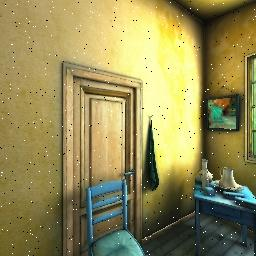chair: (74, 177, 147, 256)
door: (60, 57, 148, 255)
table: (180, 162, 256, 256)
